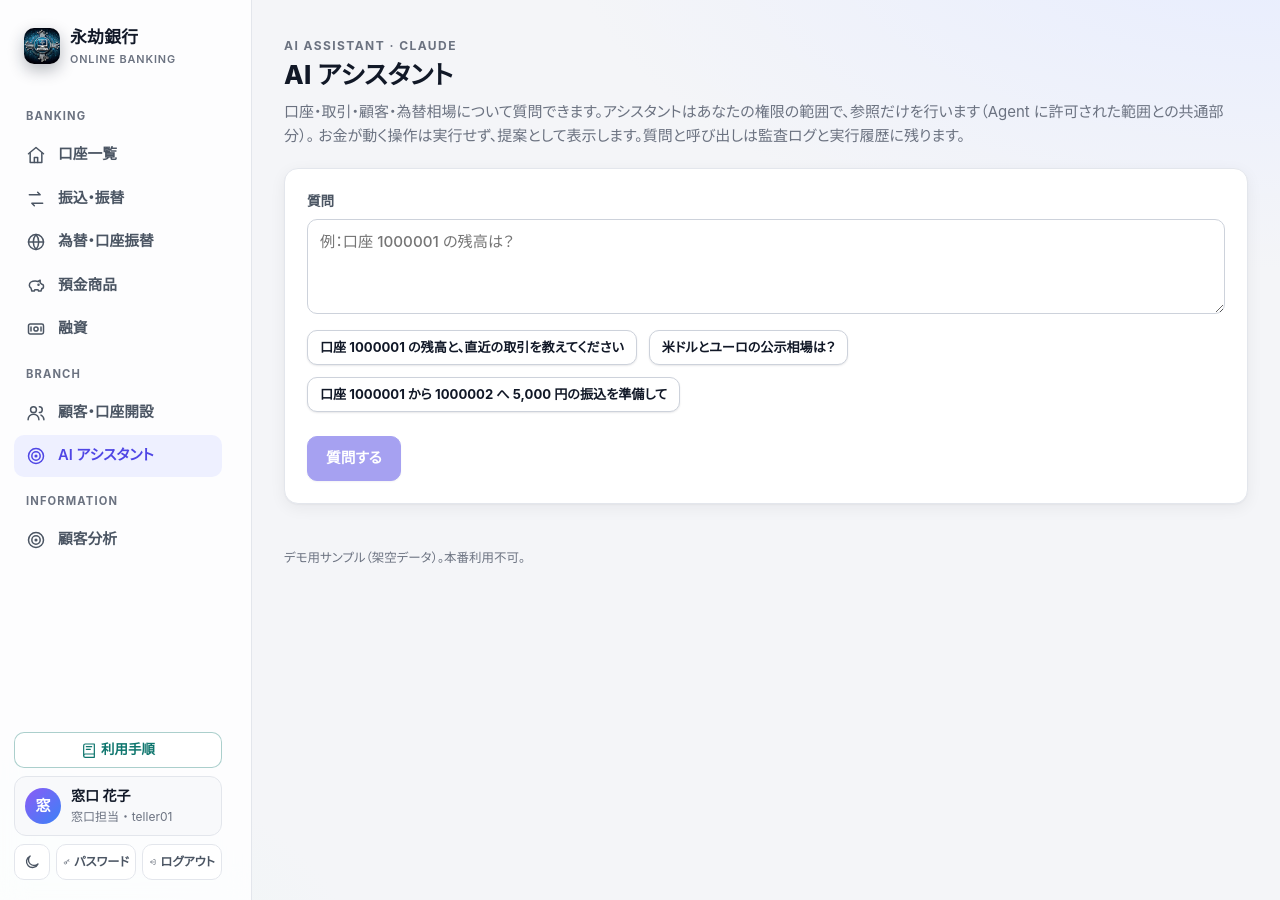
AssistantPage › 予算超過で止まったときは状態を表示し、エラーは問題として表示する
Click the button "米ドルとユーロの公示相場は？" at (749, 347), box [649, 330, 848, 365]
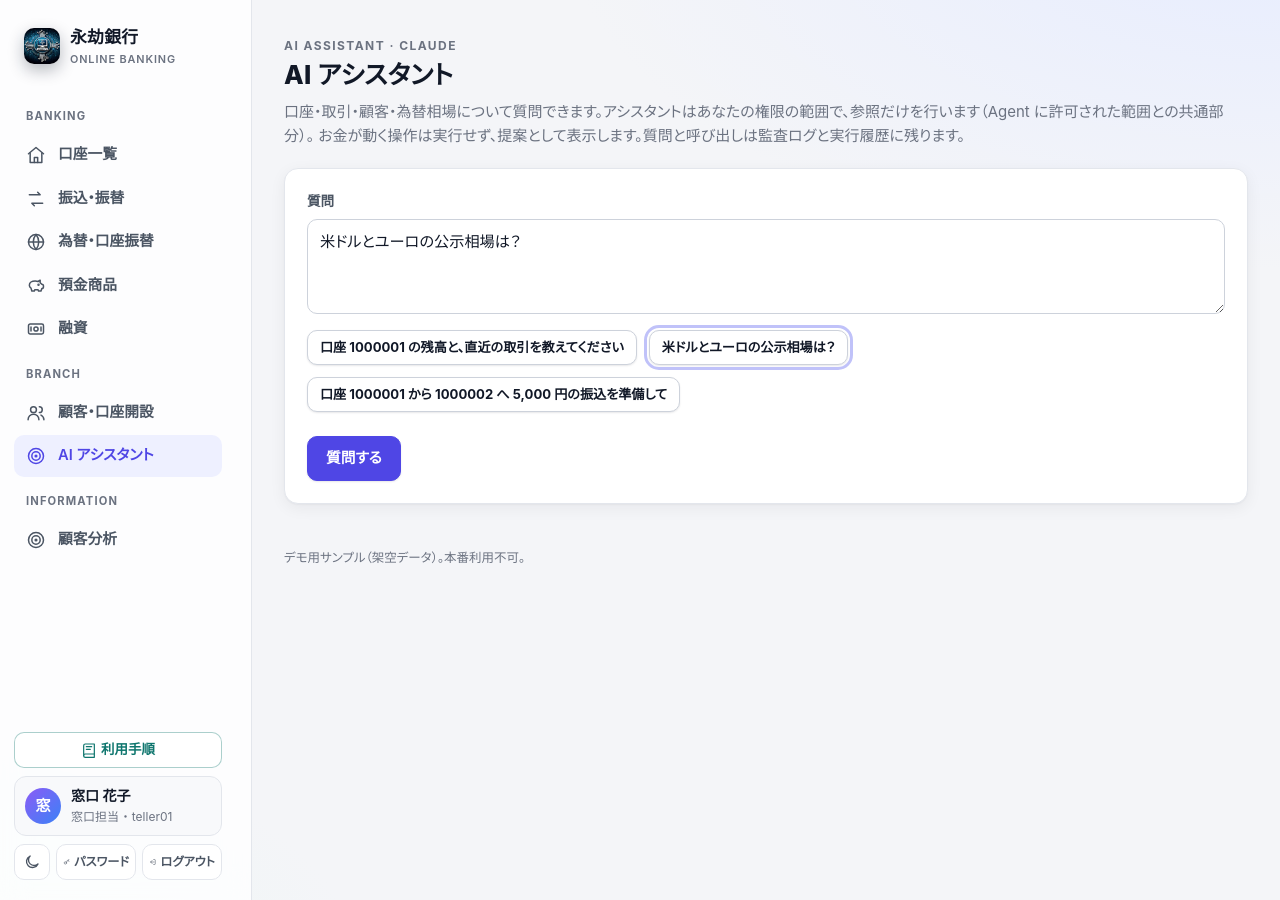
Click the button "質問する" at (354, 459), box [307, 436, 401, 481]
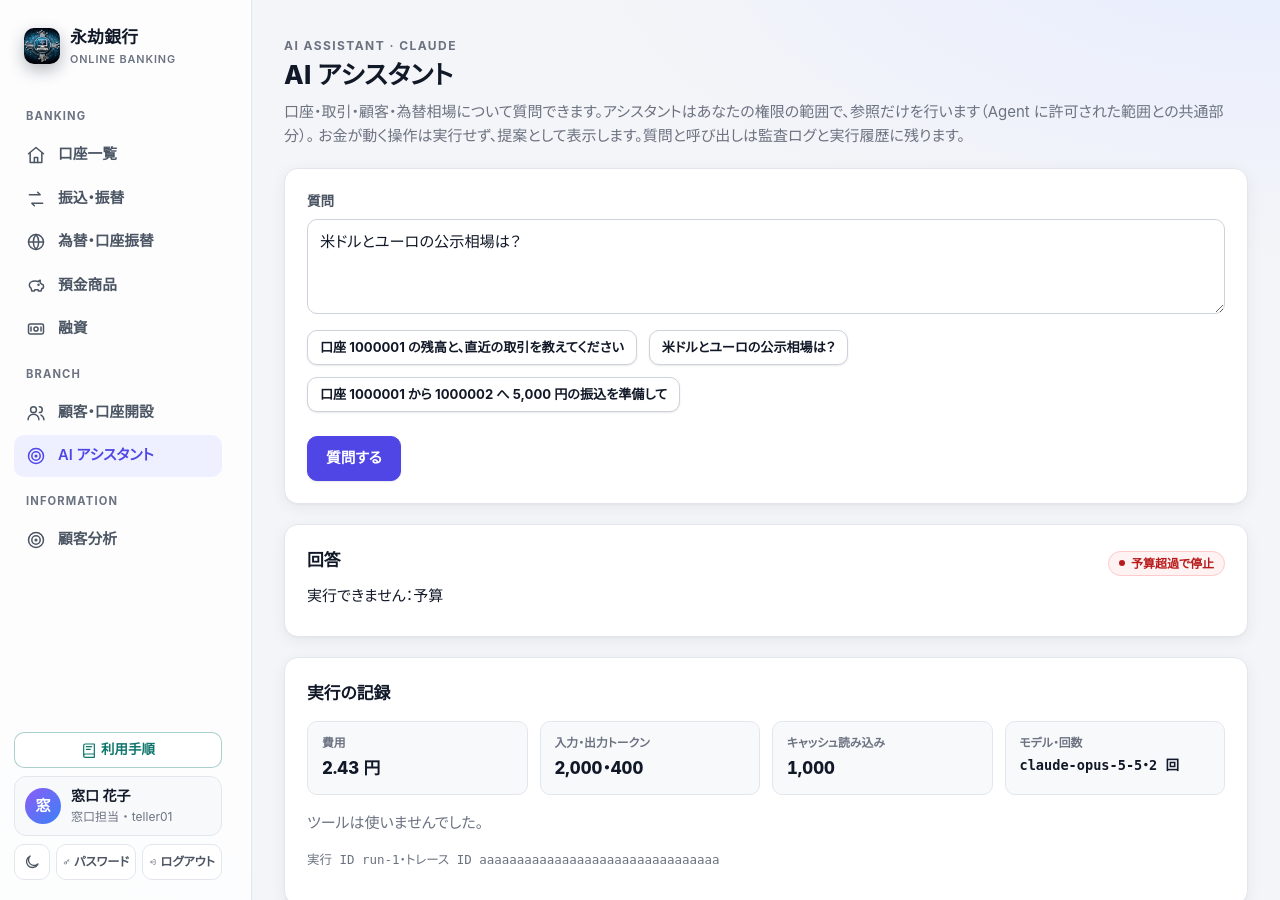
Click the button "質問する" at (354, 459), box [307, 436, 401, 481]
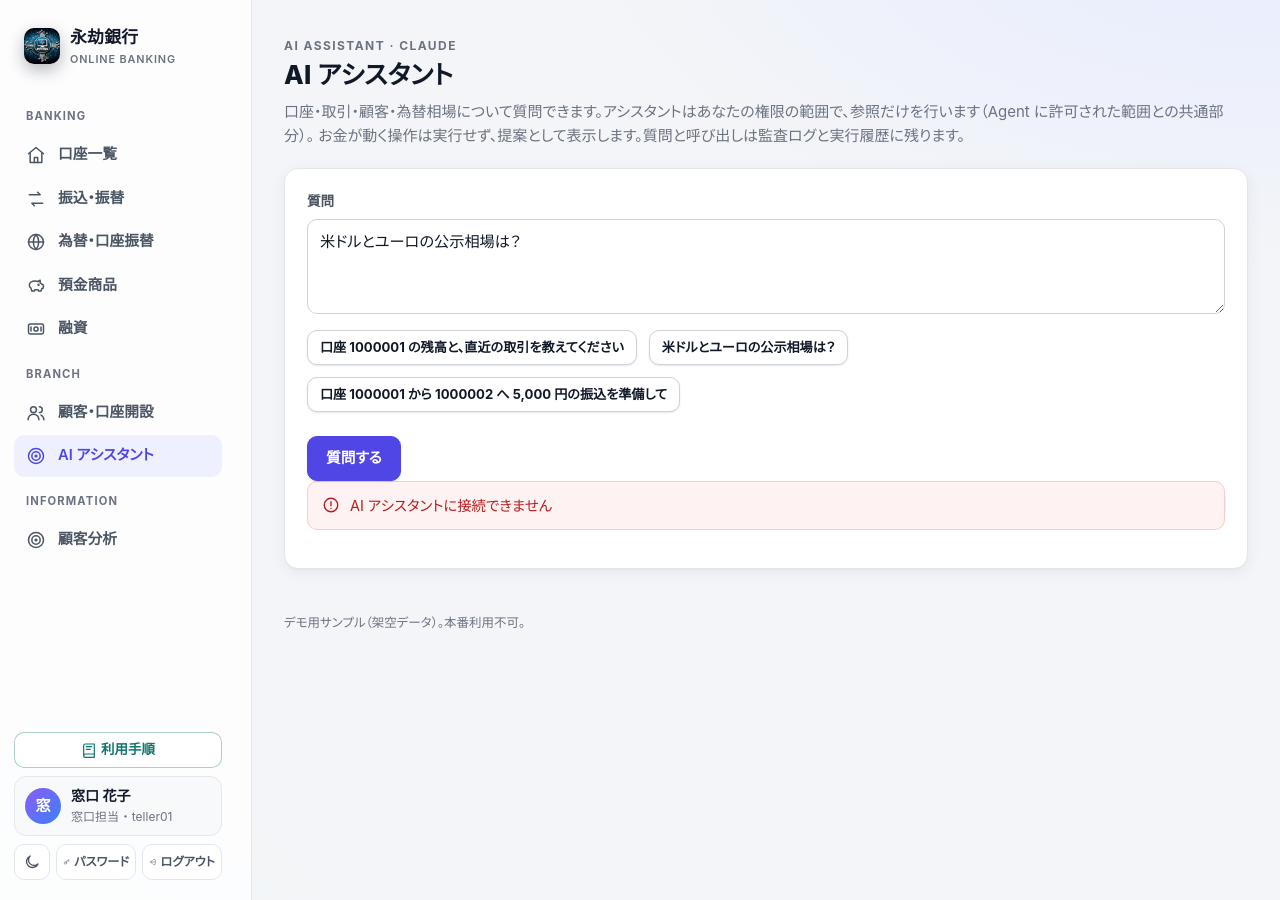
Now the message reads "AI アシスタントに接続できません", box [350, 497, 552, 514]
